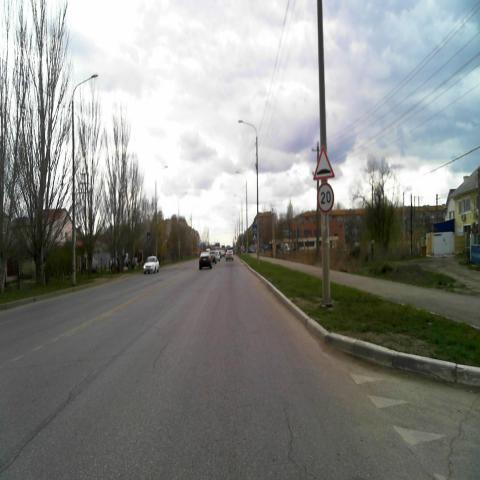1_17: (313, 144, 335, 179)
